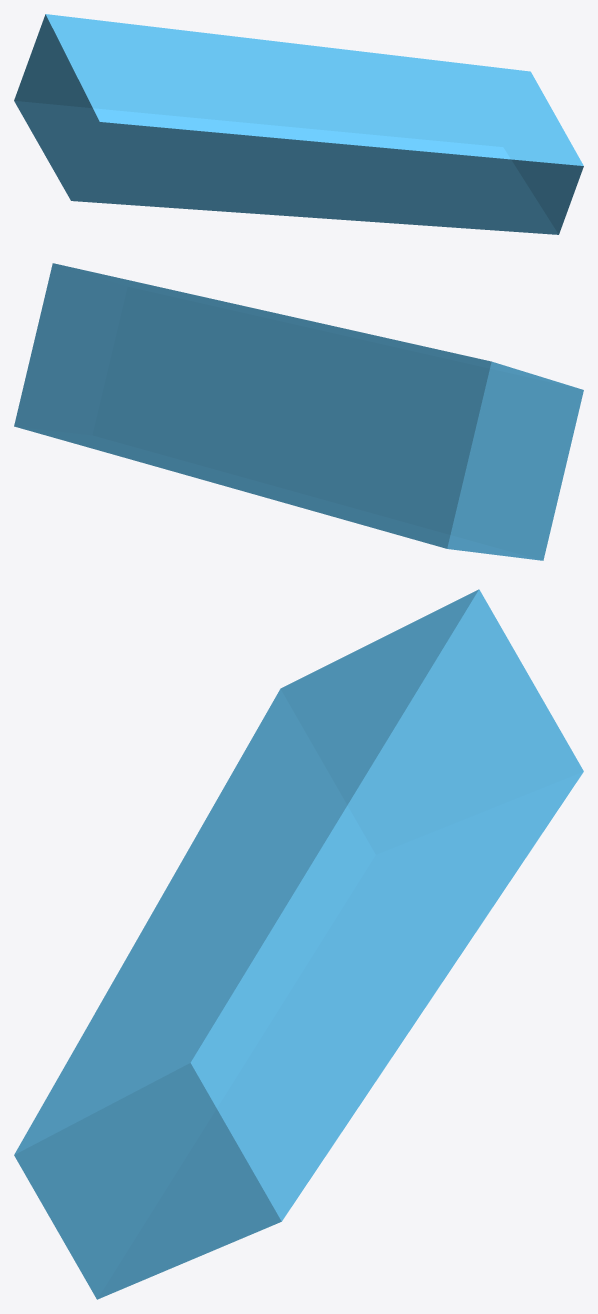
The model's file is Event_421556567_HErechit_5.fbx.
3 views of the same model, one above another, from view 1: azimuth 30°, elevation 25°; view 2: azimuth 150°, elevation 25°; view 3: azimuth 270°, elevation 25° (orthographic). The views are drawn at different scales.
Parts seen in each view (by area): view 1: Model; view 2: Model; view 3: Model.
Boxes of the visible parts, box(x1,y1,x2,y2) form: Model: box(14, 14, 583, 234); Model: box(14, 263, 583, 560); Model: box(14, 589, 583, 1299).
Size of the model in its own units: 1.52 by 0.8396 by 1.12.
